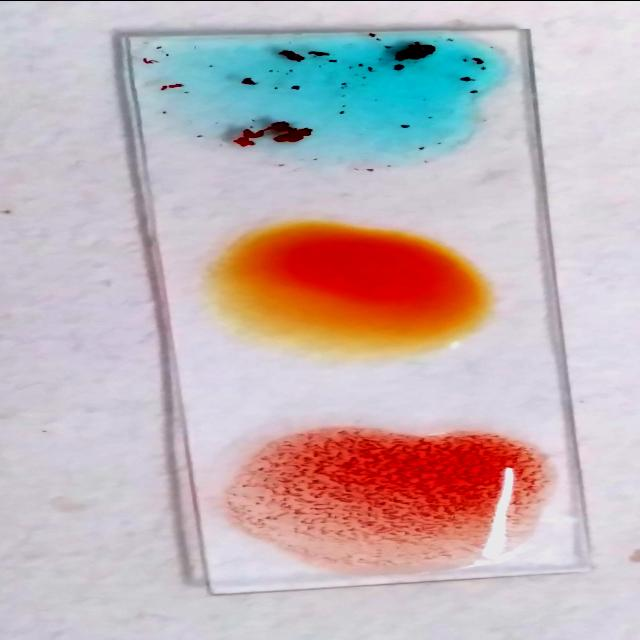A: (150, 34, 502, 162)
D: (245, 427, 546, 562)
